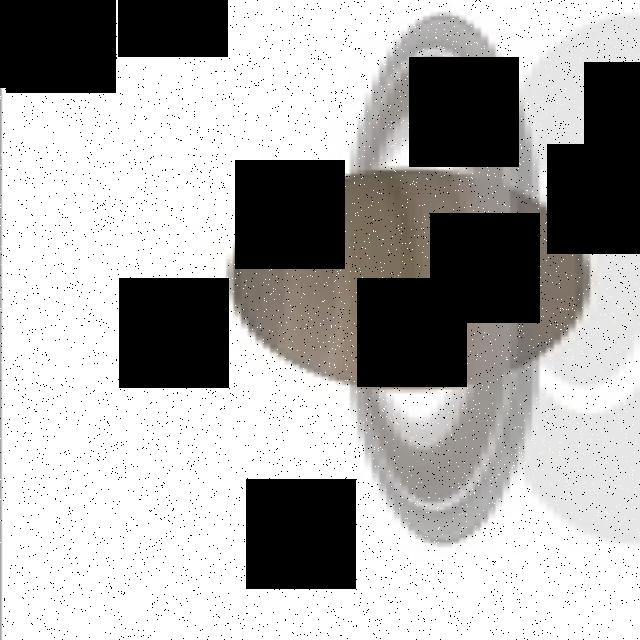Saturn: (223, 8, 602, 550)
